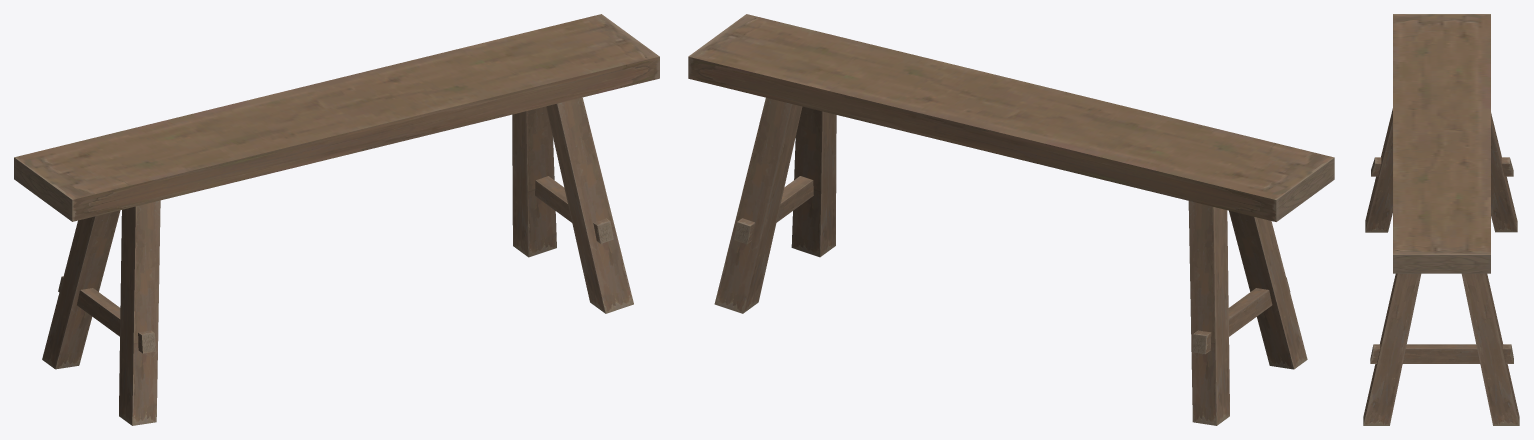
The model's file is Homeworld_Exterior_Ly_Chair_Prop_Woodstrip_01_Vo.fbx.
3 views of the same model, side by side, from view 1: azimuth 30°, elevation 25°; view 2: azimuth 150°, elevation 25°; view 3: azimuth 270°, elevation 25° (orthographic). The views are drawn at different scales.
Visible parts, largest first — view 1: Area_Ly_Prop_Common_Chair_A_01_Vo; view 2: Area_Ly_Prop_Common_Chair_A_01_Vo; view 3: Area_Ly_Prop_Common_Chair_A_01_Vo.
Part boxes in pixels (x1,y1,x2,y2): Area_Ly_Prop_Common_Chair_A_01_Vo: (14, 14, 659, 425); Area_Ly_Prop_Common_Chair_A_01_Vo: (688, 14, 1334, 425); Area_Ly_Prop_Common_Chair_A_01_Vo: (1363, 14, 1519, 425).
Bounding box in the file's own units: 1.37 × 0.5061 × 0.3751.
